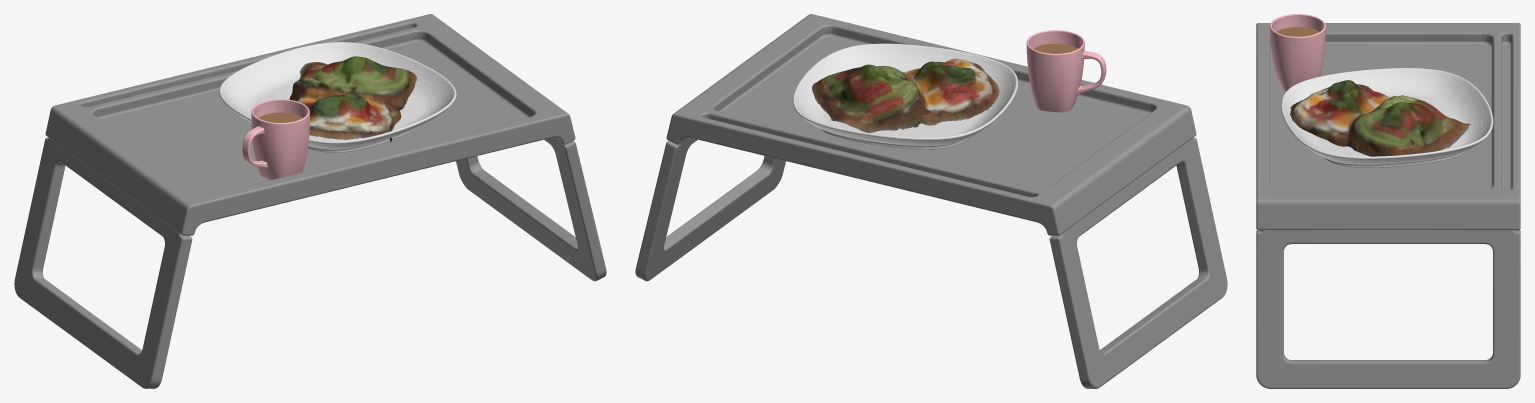
Rendered from brickamackakaffe.glb.
3 views of the same model, side by side, from view 1: azimuth 30°, elevation 25°; view 2: azimuth 150°, elevation 25°; view 3: azimuth 270°, elevation 25° (orthographic). The views are drawn at different scales.
Visible parts, largest first — view 1: C-Dimensions-Objects-Plates-IKEA-Vardera-Side-Plate-7-inch.0, Macka, Kaffekopp; view 2: C-Dimensions-Objects-Plates-IKEA-Vardera-Side-Plate-7-inch.0, Macka, Kaffekopp; view 3: C-Dimensions-Objects-Plates-IKEA-Vardera-Side-Plate-7-inch.0, Macka, Kaffekopp.
Boxes of the visible parts, x1,y1,x2,y2 form: C-Dimensions-Objects-Plates-IKEA-Vardera-Side-Plate-7-inch.0: (14,14,606,388); Macka: (219,42,456,152); Kaffekopp: (242,99,309,179); C-Dimensions-Objects-Plates-IKEA-Vardera-Side-Plate-7-inch.0: (635,14,1227,388); Macka: (792,43,1018,149); Kaffekopp: (1026,30,1106,112); C-Dimensions-Objects-Plates-IKEA-Vardera-Side-Plate-7-inch.0: (1256,23,1520,388); Macka: (1281,68,1493,167); Kaffekopp: (1270,14,1325,91).
Bounding box in the file's own units: 0.6979 × 0.3351 × 0.362.
10 materials, 6 textured.
